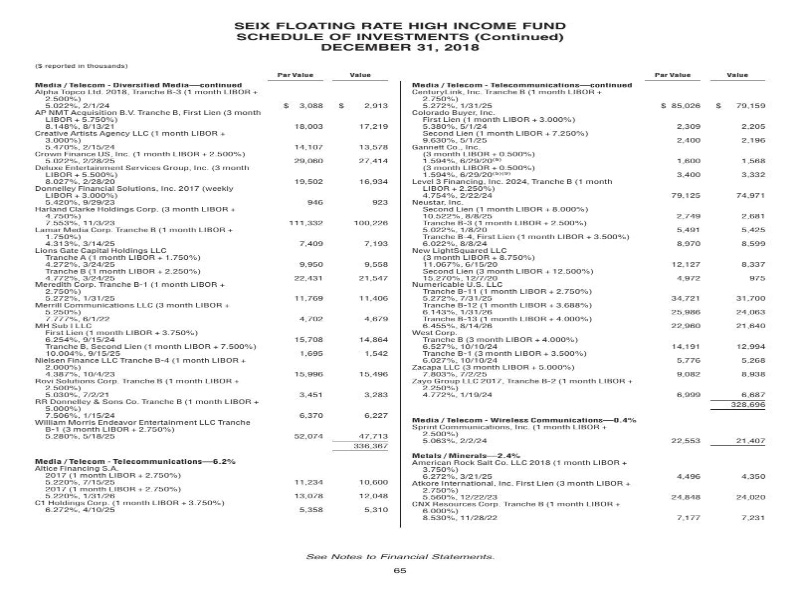table: (21, 56, 408, 543), (392, 67, 786, 536)
